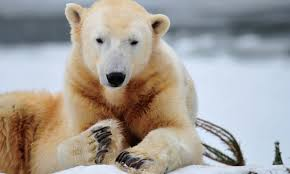PolarBear: (59, 0, 208, 170)
